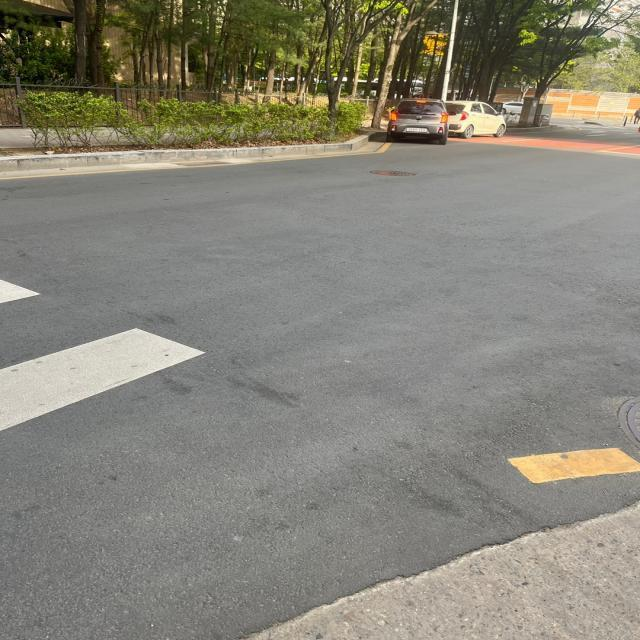Sewer Cover: (362, 165, 428, 182)
